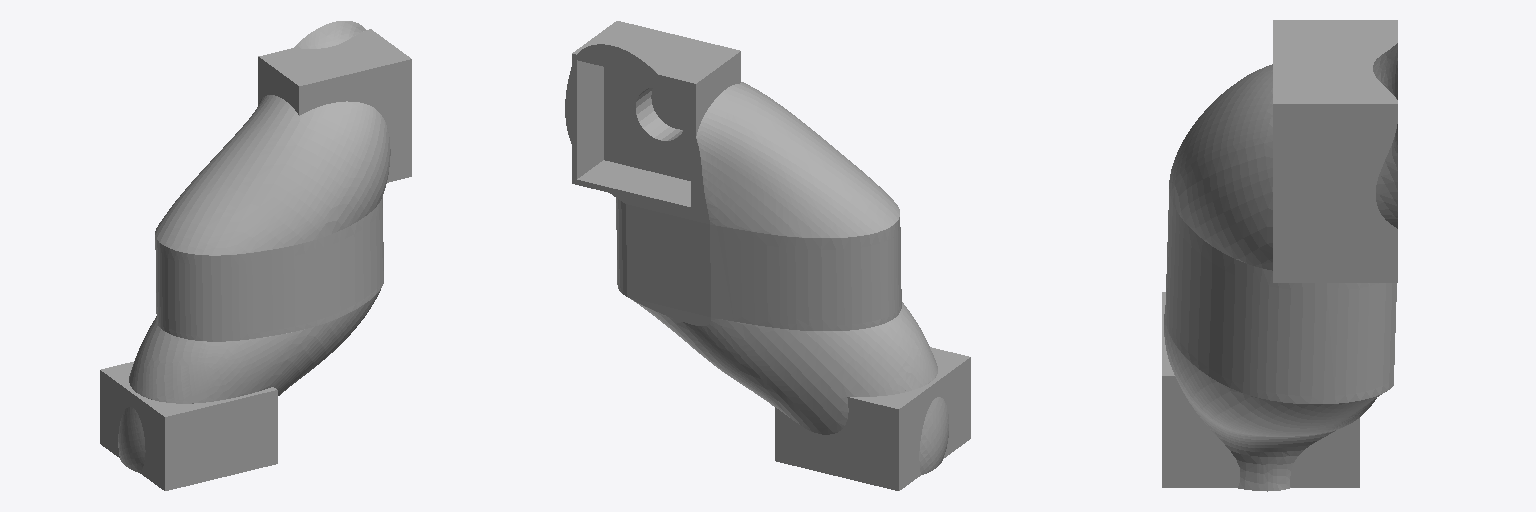
URDF robot description (FrogBot2_top-FrogBot2-z-7_bottom-FrogBot2-z-7):
<?xml version="1.0" ?>
<robot name="FrogBot2_top-FrogBot2-z-7_bottom-FrogBot2-z-7">

<material name="pla_5_percent_infill">
  <color rgba="0.700 0.700 0.700 1.000"/>
</material>

<link name="base_link">
  <inertial>
    <origin xyz="0 0 0" rpy="0 0 0"/>
    <mass value="1.3341577719423"/>
    <inertia ixx="0.0046797925109551535" iyy="0.011134478382956134" izz="0.010477176548232365" ixy="0.00012495104989682066" iyz="8.213962567094231e-05" ixz="-0.002474445058077273"/>
  </inertial>
  <visual>
    <origin xyz="0 0 0" rpy="0 0 0"/>
    <geometry>
      <mesh filename="simple_meshes/base_link.stl" scale="0.001 0.001 0.001"/>
    </geometry>
    <material name="pla_5_percent_infill"/>
  </visual>
  <collision>
    <origin xyz="0 0 0" rpy="0 0 0"/>
    <geometry>
      <mesh filename="simple_meshes/base_link.stl" scale="0.001 0.001 0.001"/>
    </geometry>
  </collision>
</link>

<link name="body_1_0_1">
  <inertial>
    <origin xyz="-0.053395 -0.09218 -0.023663" rpy="0 0 0"/>
    <mass value="0.06580957177232268"/>
    <inertia ixx="0.00012307195880210736" iyy="0.00012642282242955214" izz="2.111463792085636e-05" ixy="-1.4419686885324117e-07" iyz="7.221265691219152e-06" ixz="1.0109510635008135e-05"/>
  </inertial>
  <visual>
    <origin xyz="-0.053395 -0.09218 -0.023663" rpy="0 0 0"/>
    <geometry>
      <mesh filename="simple_meshes/body_1_0_1.stl" scale="0.001 0.001 0.001"/>
    </geometry>
    <material name="pla_5_percent_infill"/>
  </visual>
  <collision>
    <origin xyz="-0.053395 -0.09218 -0.023663" rpy="0 0 0"/>
    <geometry>
      <mesh filename="simple_meshes/body_1_0_1.stl" scale="0.001 0.001 0.001"/>
    </geometry>
  </collision>
</link>

<link name="body_1_1_1">
  <inertial>
    <origin xyz="0.095032 -0.09218 0.005345" rpy="0 0 0"/>
    <mass value="0.14560836011078057"/>
    <inertia ixx="0.00015304520631344342" iyy="0.00023734373676224116" izz="0.00013764774597796285" ixy="6.231733084381165e-06" iyz="7.3245607653176035e-06" ixz="-5.671205114273685e-05"/>
  </inertial>
  <visual>
    <origin xyz="0.095032 -0.09218 0.005345" rpy="0 0 0"/>
    <geometry>
      <mesh filename="simple_meshes/body_1_1_1.stl" scale="0.001 0.001 0.001"/>
    </geometry>
    <material name="pla_5_percent_infill"/>
  </visual>
  <collision>
    <origin xyz="0.095032 -0.09218 0.005345" rpy="0 0 0"/>
    <geometry>
      <mesh filename="simple_meshes/body_1_1_1.stl" scale="0.001 0.001 0.001"/>
    </geometry>
  </collision>
</link>

<link name="body_1_2_1">
  <inertial>
    <origin xyz="-0.041549 0.09218 -0.043945" rpy="0 0 0"/>
    <mass value="0.07108994795215803"/>
    <inertia ixx="0.00019614052486638823" iyy="0.00020107600492246116" izz="3.222629215068537e-05" ixy="1.3716411202609495e-06" iyz="-2.382534690588417e-05" ixz="2.396028156709903e-05"/>
  </inertial>
  <visual>
    <origin xyz="-0.041549 0.09218 -0.043945" rpy="0 0 0"/>
    <geometry>
      <mesh filename="simple_meshes/body_1_2_1.stl" scale="0.001 0.001 0.001"/>
    </geometry>
    <material name="pla_5_percent_infill"/>
  </visual>
  <collision>
    <origin xyz="-0.041549 0.09218 -0.043945" rpy="0 0 0"/>
    <geometry>
      <mesh filename="simple_meshes/body_1_2_1.stl" scale="0.001 0.001 0.001"/>
    </geometry>
  </collision>
</link>

<link name="body_1_3_1">
  <inertial>
    <origin xyz="0.087142 0.09218 -0.003397" rpy="0 0 0"/>
    <mass value="0.1494553798182042"/>
    <inertia ixx="0.00015790357389283954" iyy="0.0002404888858792316" izz="0.00013963723407772136" ixy="-1.0873277695268042e-05" iyz="-7.463382971120941e-06" ixz="-5.696004605491899e-05"/>
  </inertial>
  <visual>
    <origin xyz="0.087142 0.09218 -0.003397" rpy="0 0 0"/>
    <geometry>
      <mesh filename="simple_meshes/body_1_3_1.stl" scale="0.001 0.001 0.001"/>
    </geometry>
    <material name="pla_5_percent_infill"/>
  </visual>
  <collision>
    <origin xyz="0.087142 0.09218 -0.003397" rpy="0 0 0"/>
    <geometry>
      <mesh filename="simple_meshes/body_1_3_1.stl" scale="0.001 0.001 0.001"/>
    </geometry>
  </collision>
</link>

<link name="body_2_0_1">
  <inertial>
    <origin xyz="-0.065654 -0.139685 0.129558" rpy="0 0 0"/>
    <mass value="0.16778264950470162"/>
    <inertia ixx="0.000221318427738015" iyy="0.00021993217724660188" izz="0.0002721034918529326" ixy="-2.181610693026588e-05" iyz="1.3429096818930175e-05" ixz="1.0094936422251795e-05"/>
  </inertial>
  <visual>
    <origin xyz="-0.065654 -0.139685 0.129558" rpy="0 0 0"/>
    <geometry>
      <mesh filename="simple_meshes/body_2_0_1.stl" scale="0.001 0.001 0.001"/>
    </geometry>
    <material name="pla_5_percent_infill"/>
  </visual>
  <collision>
    <origin xyz="-0.065654 -0.139685 0.129558" rpy="0 0 0"/>
    <geometry>
      <mesh filename="simple_meshes/body_2_0_1.stl" scale="0.001 0.001 0.001"/>
    </geometry>
  </collision>
</link>

<link name="body_2_1_1">
  <inertial>
    <origin xyz="0.15751 -0.143533 0.129558" rpy="0 0 0"/>
    <mass value="0.11339142407704303"/>
    <inertia ixx="0.00012666484281493966" iyy="0.0001468258481440816" izz="0.00011327161689346759" ixy="-1.7423675358020294e-07" iyz="3.074890588121914e-05" ixz="1.6996606309730745e-05"/>
  </inertial>
  <visual>
    <origin xyz="0.15751 -0.143533 0.129558" rpy="0 0 0"/>
    <geometry>
      <mesh filename="simple_meshes/body_2_1_1.stl" scale="0.001 0.001 0.001"/>
    </geometry>
    <material name="pla_5_percent_infill"/>
  </visual>
  <collision>
    <origin xyz="0.15751 -0.143533 0.129558" rpy="0 0 0"/>
    <geometry>
      <mesh filename="simple_meshes/body_2_1_1.stl" scale="0.001 0.001 0.001"/>
    </geometry>
  </collision>
</link>

<link name="body_2_2_1">
  <inertial>
    <origin xyz="-0.061161 0.145934 0.129558" rpy="0 0 0"/>
    <mass value="0.14961629233584478"/>
    <inertia ixx="0.00018878703199576297" iyy="0.0002013895517886397" izz="0.0002356637512690397" ixy="1.105164443588008e-05" iyz="-5.986677373337468e-06" ixz="2.2567033116736163e-06"/>
  </inertial>
  <visual>
    <origin xyz="-0.061161 0.145934 0.129558" rpy="0 0 0"/>
    <geometry>
      <mesh filename="simple_meshes/body_2_2_1.stl" scale="0.001 0.001 0.001"/>
    </geometry>
    <material name="pla_5_percent_infill"/>
  </visual>
  <collision>
    <origin xyz="-0.061161 0.145934 0.129558" rpy="0 0 0"/>
    <geometry>
      <mesh filename="simple_meshes/body_2_2_1.stl" scale="0.001 0.001 0.001"/>
    </geometry>
  </collision>
</link>

<link name="body_2_3_1">
  <inertial>
    <origin xyz="0.160089 0.145768 0.129558" rpy="0 0 0"/>
    <mass value="0.10555316024778248"/>
    <inertia ixx="0.00013407469924395145" iyy="0.00014059134708148836" izz="0.00011026156003716894" ixy="-5.436600780834525e-06" iyz="-3.6322347224706977e-05" ixz="1.8279044352153846e-05"/>
  </inertial>
  <visual>
    <origin xyz="0.160089 0.145768 0.129558" rpy="0 0 0"/>
    <geometry>
      <mesh filename="simple_meshes/body_2_3_1.stl" scale="0.001 0.001 0.001"/>
    </geometry>
    <material name="pla_5_percent_infill"/>
  </visual>
  <collision>
    <origin xyz="0.160089 0.145768 0.129558" rpy="0 0 0"/>
    <geometry>
      <mesh filename="simple_meshes/body_2_3_1.stl" scale="0.001 0.001 0.001"/>
    </geometry>
  </collision>
</link>

<joint name="joint_1_0" type="revolute">
  <origin xyz="0.053395 0.09218 0.023663" rpy="0 0 0"/>
  <parent link="base_link"/>
  <child link="body_1_0_1"/>
  <axis xyz="0.0 1.0 0.0"/>
  <limit upper="1.2" lower="-1.2" effort="3.8" velocity="5.4"/>
</joint>
<transmission name="joint_1_0_tran">
  <type>transmission_interface/SimpleTransmission</type>
  <joint name="joint_1_0">
    <hardwareInterface>PositionJointInterface</hardwareInterface>
  </joint>
  <actuator name="joint_1_0_actr">
    <hardwareInterface>PositionJointInterface</hardwareInterface>
    <mechanicalReduction>1</mechanicalReduction>
  </actuator>
</transmission>

<joint name="joint_1_1" type="revolute">
  <origin xyz="-0.095032 0.09218 -0.005345" rpy="0 0 0"/>
  <parent link="base_link"/>
  <child link="body_1_1_1"/>
  <axis xyz="0.0 1.0 0.0"/>
  <limit upper="1.2" lower="-1.2" effort="3.8" velocity="5.4"/>
</joint>
<transmission name="joint_1_1_tran">
  <type>transmission_interface/SimpleTransmission</type>
  <joint name="joint_1_1">
    <hardwareInterface>PositionJointInterface</hardwareInterface>
  </joint>
  <actuator name="joint_1_1_actr">
    <hardwareInterface>PositionJointInterface</hardwareInterface>
    <mechanicalReduction>1</mechanicalReduction>
  </actuator>
</transmission>

<joint name="joint_1_2" type="revolute">
  <origin xyz="0.041549 -0.09218 0.043945" rpy="0 0 0"/>
  <parent link="base_link"/>
  <child link="body_1_2_1"/>
  <axis xyz="0.0 1.0 0.0"/>
  <limit upper="1.2" lower="-1.2" effort="3.8" velocity="5.4"/>
</joint>
<transmission name="joint_1_2_tran">
  <type>transmission_interface/SimpleTransmission</type>
  <joint name="joint_1_2">
    <hardwareInterface>PositionJointInterface</hardwareInterface>
  </joint>
  <actuator name="joint_1_2_actr">
    <hardwareInterface>PositionJointInterface</hardwareInterface>
    <mechanicalReduction>1</mechanicalReduction>
  </actuator>
</transmission>

<joint name="joint_1_3" type="revolute">
  <origin xyz="-0.087142 -0.09218 0.003397" rpy="0 0 0"/>
  <parent link="base_link"/>
  <child link="body_1_3_1"/>
  <axis xyz="0.0 1.0 0.0"/>
  <limit upper="1.2" lower="-1.2" effort="3.8" velocity="5.4"/>
</joint>
<transmission name="joint_1_3_tran">
  <type>transmission_interface/SimpleTransmission</type>
  <joint name="joint_1_3">
    <hardwareInterface>PositionJointInterface</hardwareInterface>
  </joint>
  <actuator name="joint_1_3_actr">
    <hardwareInterface>PositionJointInterface</hardwareInterface>
    <mechanicalReduction>1</mechanicalReduction>
  </actuator>
</transmission>

<joint name="joint_2_0" type="revolute">
  <origin xyz="0.012259 0.047505 -0.153221" rpy="0 0 0"/>
  <parent link="body_1_0_1"/>
  <child link="body_2_0_1"/>
  <axis xyz="0.0 0.0 1.0"/>
  <limit upper="1.2" lower="-1.2" effort="3.8" velocity="5.4"/>
</joint>
<transmission name="joint_2_0_tran">
  <type>transmission_interface/SimpleTransmission</type>
  <joint name="joint_2_0">
    <hardwareInterface>PositionJointInterface</hardwareInterface>
  </joint>
  <actuator name="joint_2_0_actr">
    <hardwareInterface>PositionJointInterface</hardwareInterface>
    <mechanicalReduction>1</mechanicalReduction>
  </actuator>
</transmission>

<joint name="joint_2_1" type="revolute">
  <origin xyz="-0.062478 0.051353 -0.124213" rpy="0 0 0"/>
  <parent link="body_1_1_1"/>
  <child link="body_2_1_1"/>
  <axis xyz="0.0 0.0 1.0"/>
  <limit upper="1.2" lower="-1.2" effort="3.8" velocity="5.4"/>
</joint>
<transmission name="joint_2_1_tran">
  <type>transmission_interface/SimpleTransmission</type>
  <joint name="joint_2_1">
    <hardwareInterface>PositionJointInterface</hardwareInterface>
  </joint>
  <actuator name="joint_2_1_actr">
    <hardwareInterface>PositionJointInterface</hardwareInterface>
    <mechanicalReduction>1</mechanicalReduction>
  </actuator>
</transmission>

<joint name="joint_2_2" type="revolute">
  <origin xyz="0.019612 -0.053754 -0.173503" rpy="0 0 0"/>
  <parent link="body_1_2_1"/>
  <child link="body_2_2_1"/>
  <axis xyz="0.0 0.0 1.0"/>
  <limit upper="1.2" lower="-1.2" effort="3.8" velocity="5.4"/>
</joint>
<transmission name="joint_2_2_tran">
  <type>transmission_interface/SimpleTransmission</type>
  <joint name="joint_2_2">
    <hardwareInterface>PositionJointInterface</hardwareInterface>
  </joint>
  <actuator name="joint_2_2_actr">
    <hardwareInterface>PositionJointInterface</hardwareInterface>
    <mechanicalReduction>1</mechanicalReduction>
  </actuator>
</transmission>

<joint name="joint_2_3" type="revolute">
  <origin xyz="-0.072947 -0.053588 -0.132955" rpy="0 0 0"/>
  <parent link="body_1_3_1"/>
  <child link="body_2_3_1"/>
  <axis xyz="0.0 0.0 1.0"/>
  <limit upper="1.2" lower="-1.2" effort="3.8" velocity="5.4"/>
</joint>
<transmission name="joint_2_3_tran">
  <type>transmission_interface/SimpleTransmission</type>
  <joint name="joint_2_3">
    <hardwareInterface>PositionJointInterface</hardwareInterface>
  </joint>
  <actuator name="joint_2_3_actr">
    <hardwareInterface>PositionJointInterface</hardwareInterface>
    <mechanicalReduction>1</mechanicalReduction>
  </actuator>
</transmission>

</robot>

--- Render facts (derived) ---
Views: 3 orthographic renders of the robot side by side, from view 1: azimuth 30°, elevation 25°; view 2: azimuth 150°, elevation 25°; view 3: azimuth 270°, elevation 25°.
Robot: FrogBot2_top-FrogBot2-z-7_bottom-FrogBot2-z-7 — 9 links, 8 joints (8 revolute); root link base_link; default pose: all joints at 0.
Visible links, largest first — view 1: body_1_3_1; view 2: body_1_3_1; view 3: body_1_3_1.
Boxes of the visible links, bbox=[...] form: body_1_3_1: bbox=[100, 21, 411, 490]; body_1_3_1: bbox=[565, 21, 970, 490]; body_1_3_1: bbox=[1162, 20, 1397, 491].
Bounding box of the posed robot: 0.127 × 0.0578 × 0.1449 m (x, y, z).
1 mesh visuals loaded from 9 distinct referenced files (1 binary STL); not drawn: 8 (reference not matched to a file when rendering).